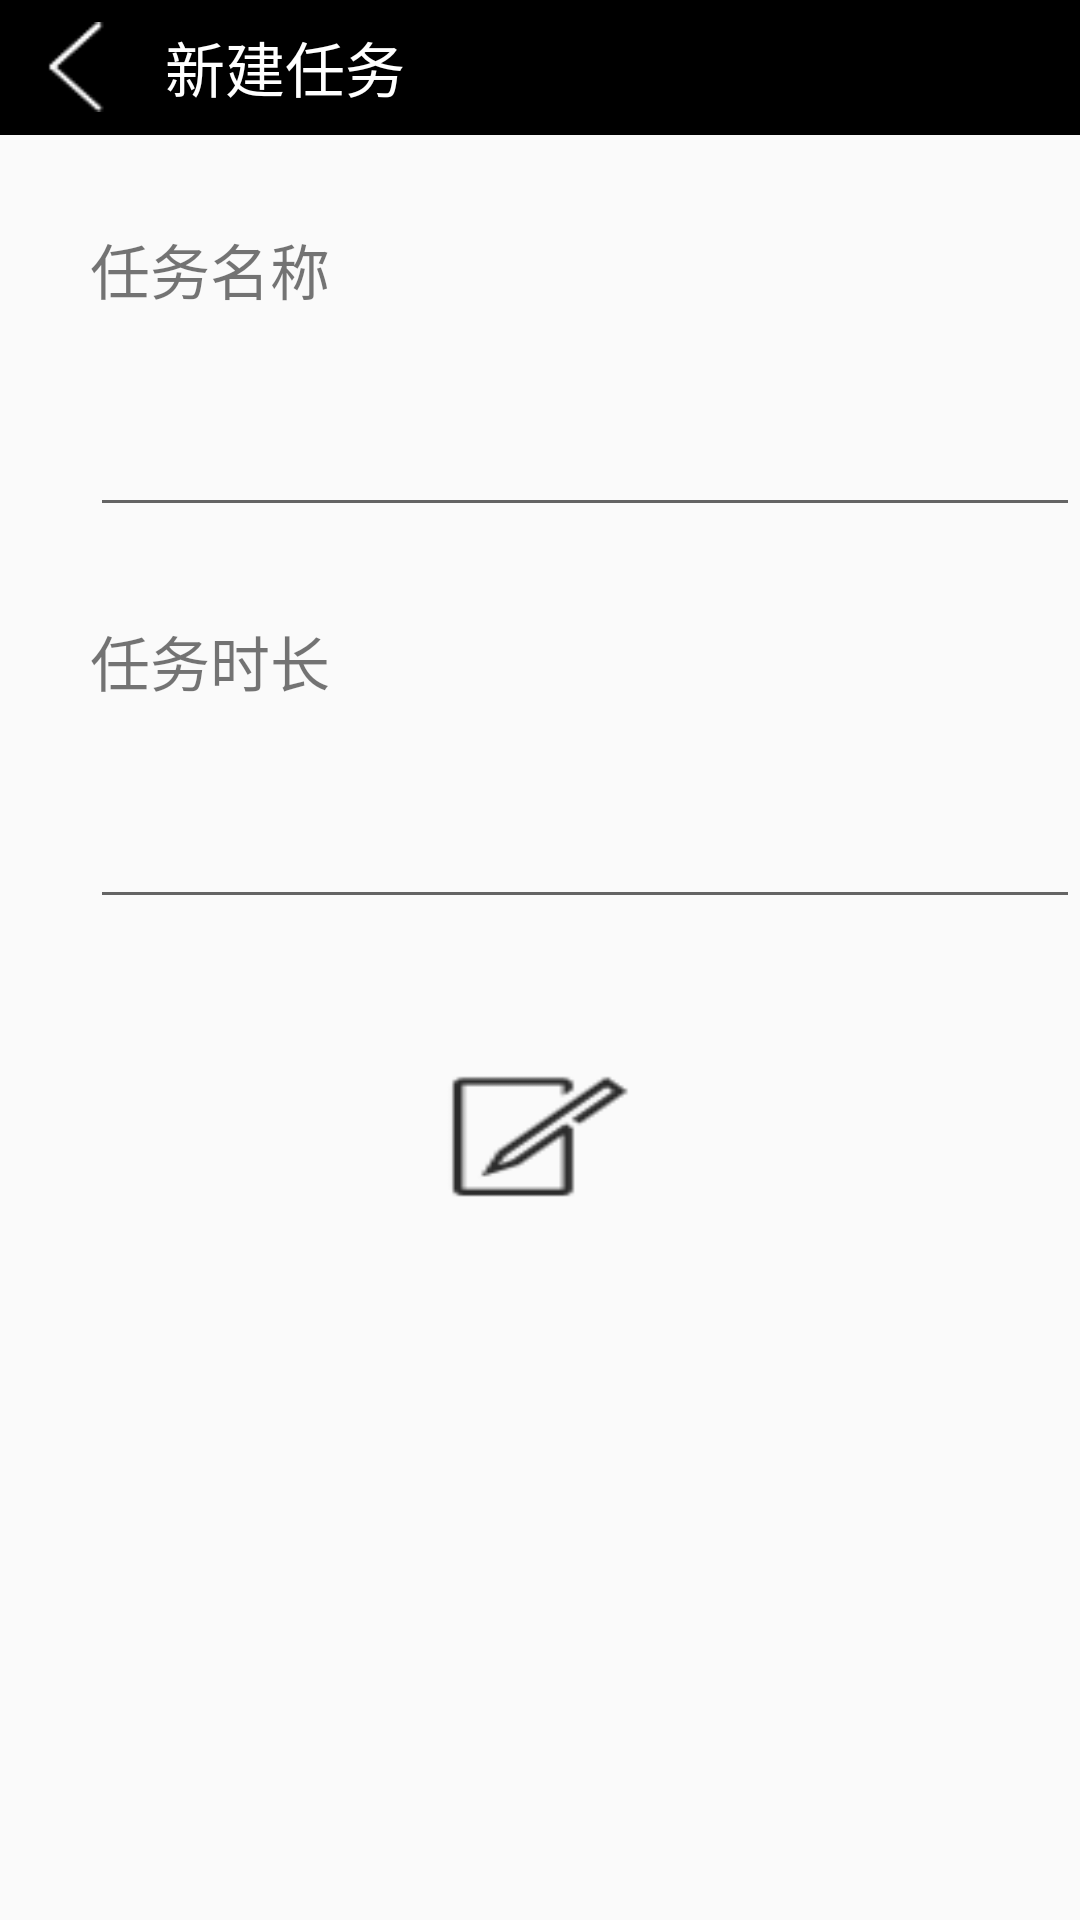

Icons on this 1080 x 1920 Android screen, each with the point to tap as (x,y):
left: (76,67)
